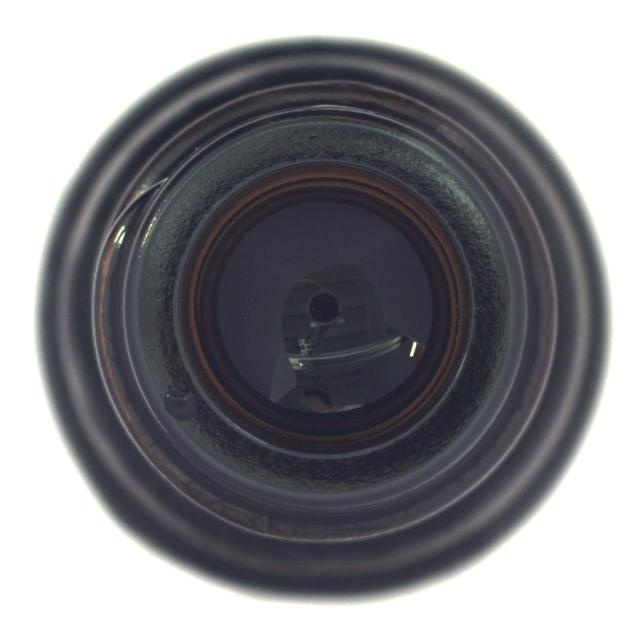bad-contamination: (34, 37, 613, 606)
